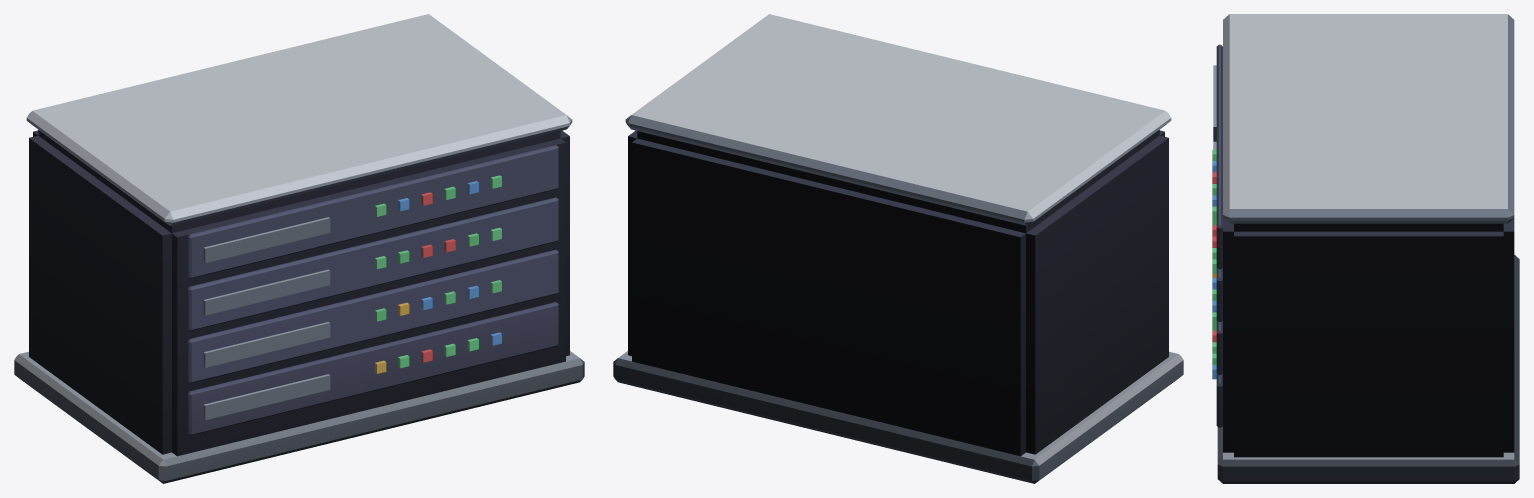
Rendered from server_unit.glb.
The picture shows the model from 3 angles, left to right: view 1: azimuth 30°, elevation 25°; view 2: azimuth 150°, elevation 25°; view 3: azimuth 270°, elevation 25°; orthographic projection.
Visible parts, largest first — view 1: server_unit; view 2: server_unit; view 3: server_unit.
Boxes of the visible parts, x1=… form: server_unit: x1=14, y1=14, x2=584, y2=483; server_unit: x1=613, y1=14, x2=1183, y2=483; server_unit: x1=1212, y1=14, x2=1519, y2=483.
Size of the model in its own units: 0.92 by 0.552 by 0.57.
